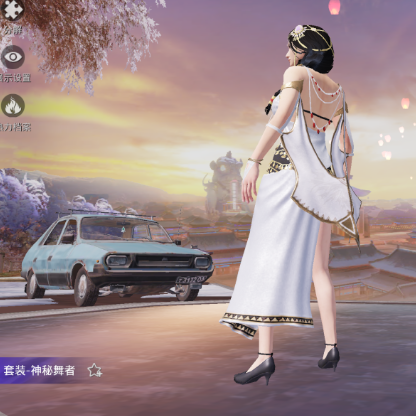ren: (237, 22, 350, 379)
tou: (285, 24, 333, 76)
